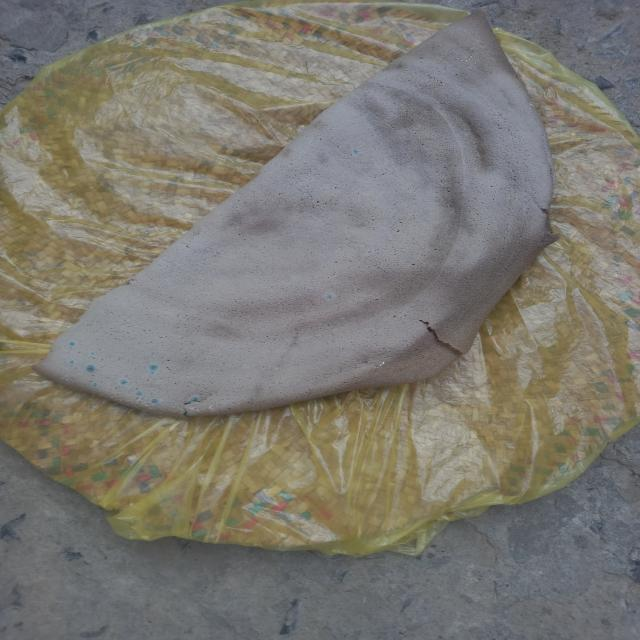injera_mold: (180, 406, 206, 416), (124, 398, 146, 408), (109, 396, 124, 405), (84, 363, 97, 373), (145, 407, 164, 413), (188, 396, 202, 404), (324, 293, 336, 302), (147, 365, 160, 371), (66, 341, 78, 347), (149, 398, 161, 404), (208, 404, 216, 412), (119, 379, 128, 385), (68, 359, 76, 365), (136, 391, 144, 396), (92, 382, 98, 388), (378, 361, 385, 366), (529, 102, 535, 107), (90, 390, 98, 393), (352, 149, 358, 153), (90, 352, 96, 355), (65, 378, 69, 381), (172, 410, 177, 412), (150, 372, 155, 374), (465, 59, 468, 62), (65, 374, 68, 376), (374, 367, 380, 368), (389, 357, 392, 359), (470, 55, 472, 58), (474, 62, 477, 64), (488, 50, 491, 52), (62, 377, 64, 379), (368, 360, 370, 362), (372, 352, 374, 354), (383, 354, 385, 356), (477, 59, 479, 61), (457, 58, 460, 59), (468, 59, 471, 60), (471, 48, 474, 49), (529, 108, 531, 109), (460, 60, 462, 61)
